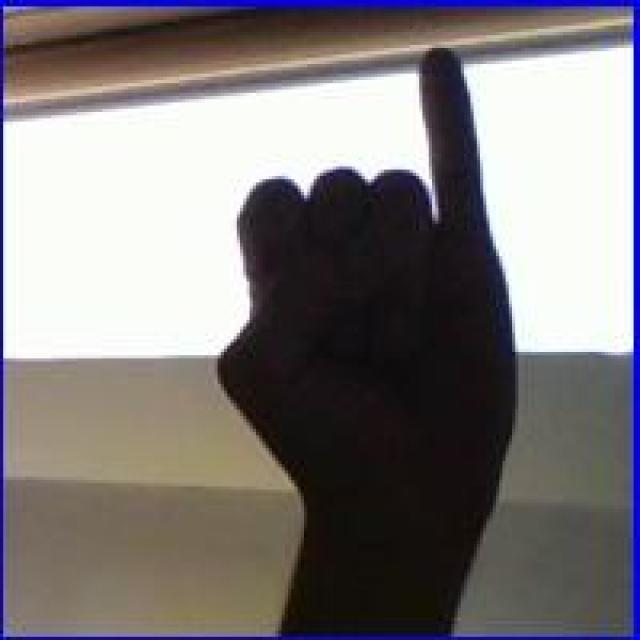I: (205, 42, 528, 560)
